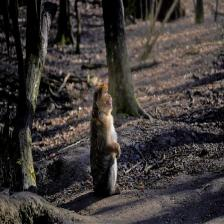monkey: (88, 68, 124, 202)
